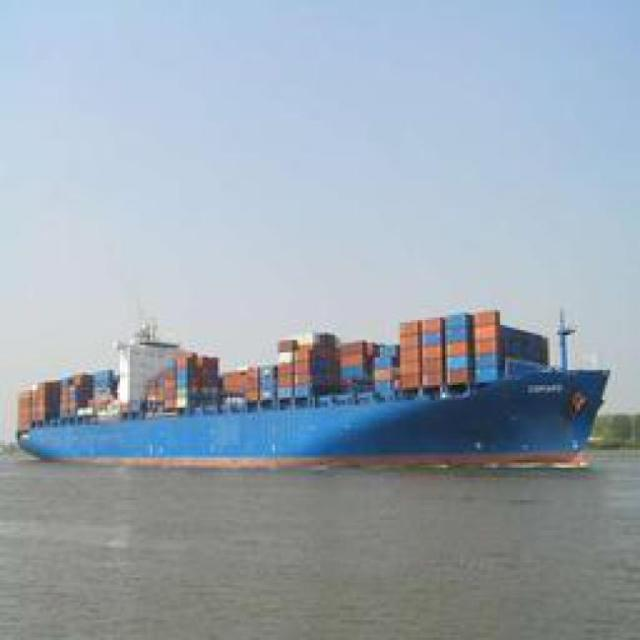boat: (1, 335, 616, 480)
